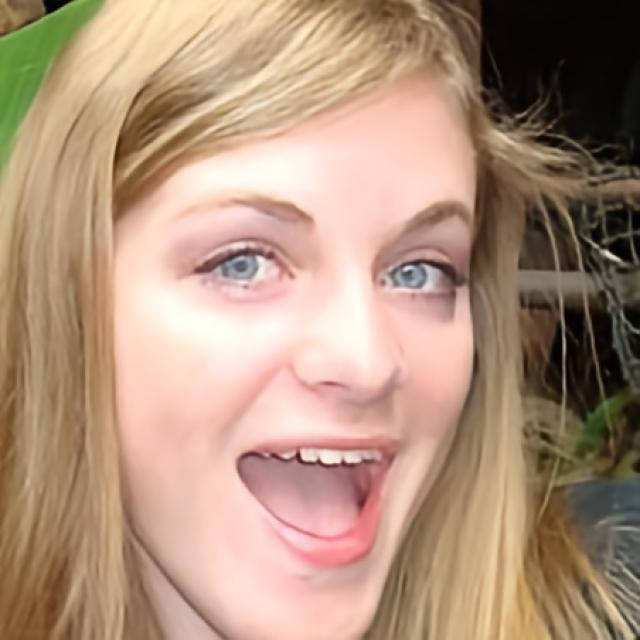surprise: (112, 53, 478, 640)
